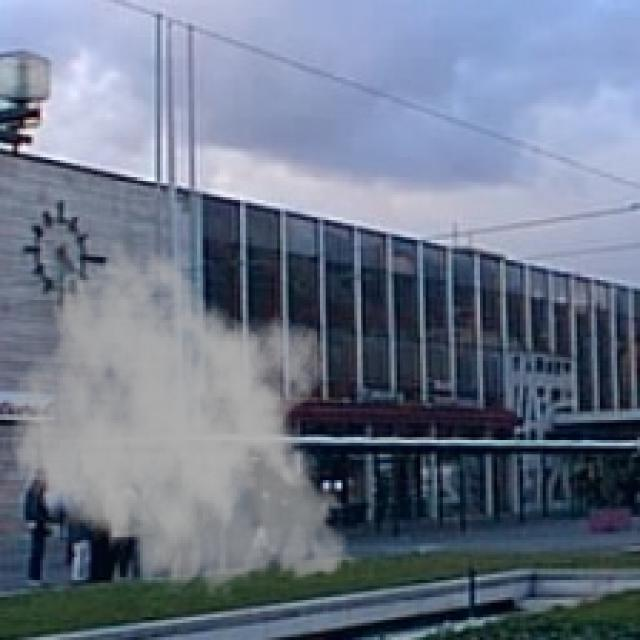Smoke: (8, 237, 363, 600)
